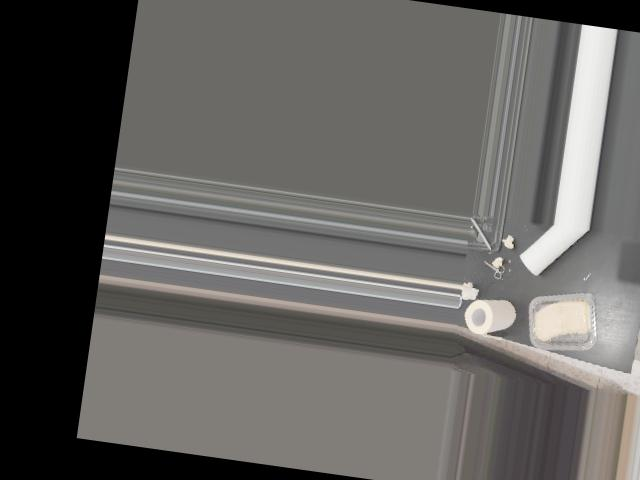cheese: (524, 287, 603, 352)
